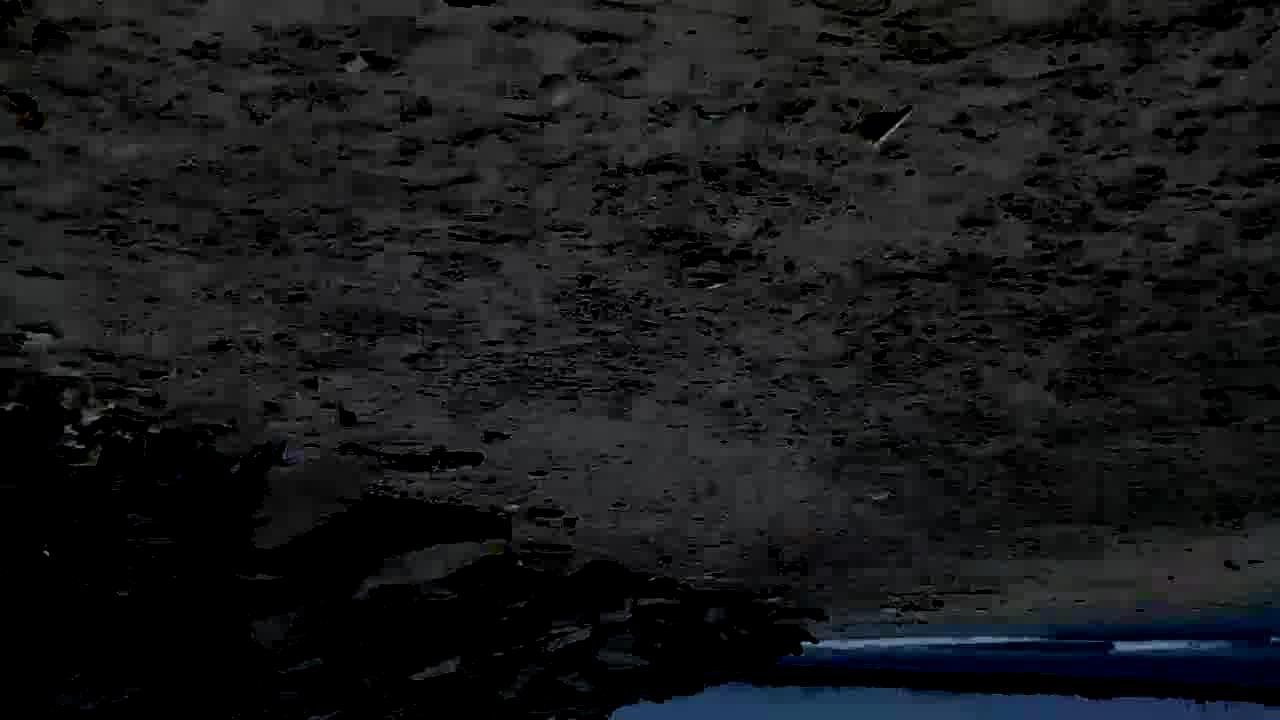obj: (331, 442, 488, 478), (854, 97, 921, 148), (7, 90, 46, 134)
sand/background: (1, 355, 1279, 719)
